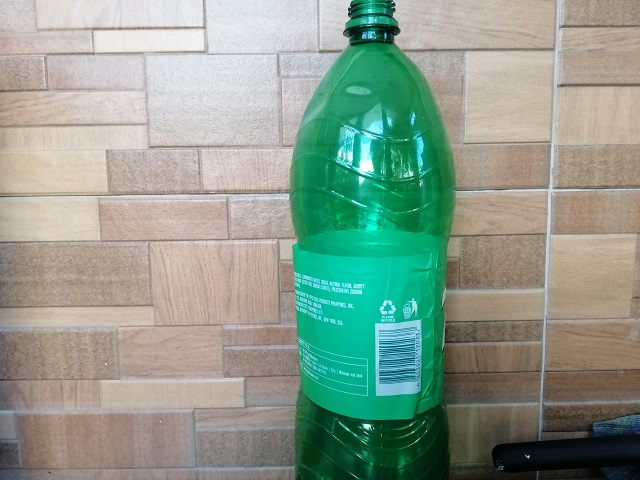bottle: (288, 1, 455, 480)
wall: (5, 7, 280, 474), (475, 12, 640, 410)
